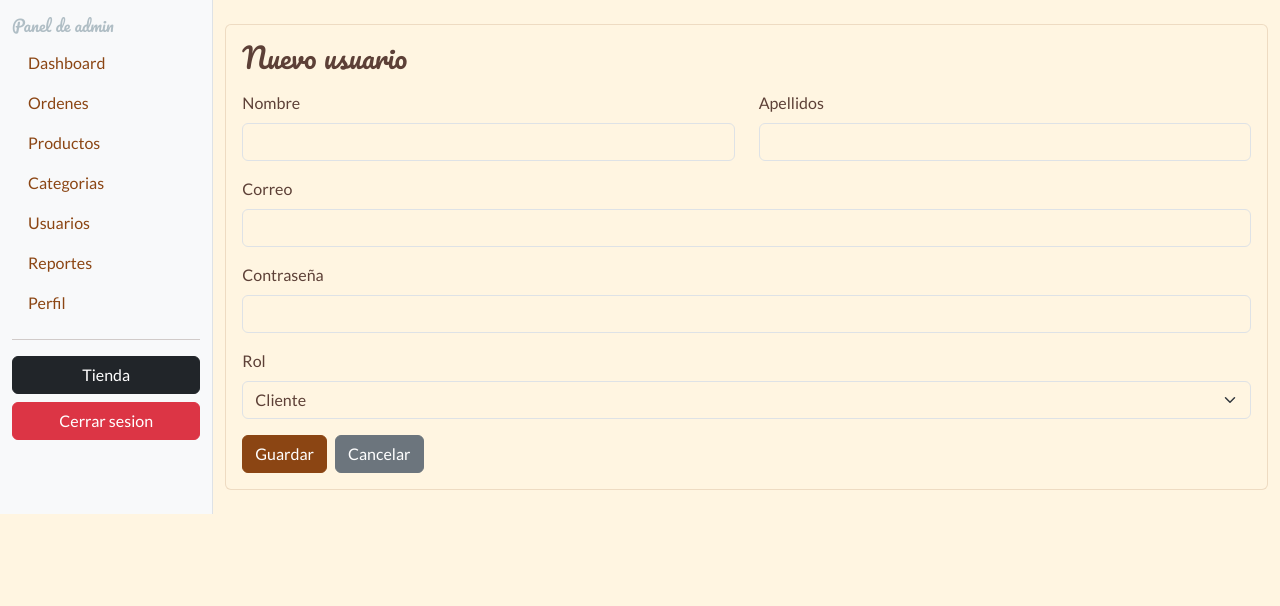
Scenario: Panel de admin › el formulario de usuario muestra errores si faltan datos
Click the button "Guardar" at (285, 454), box [242,435,327,473]
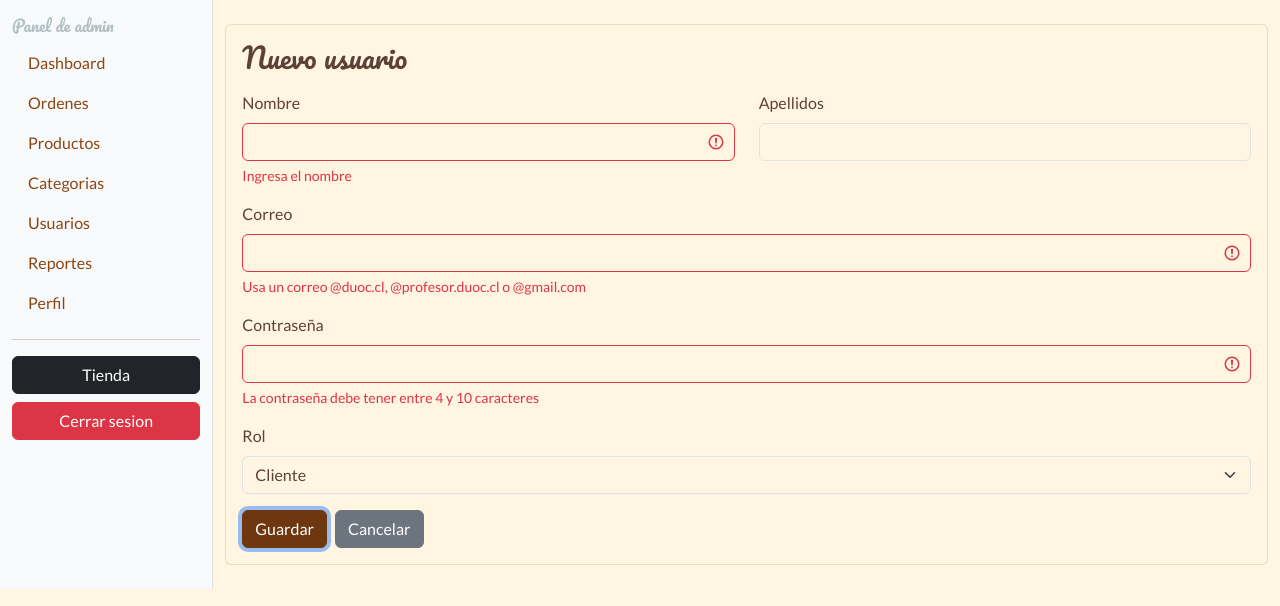
Result: the text "Ingresa el nombre" is shown at [242,167,352,184]
